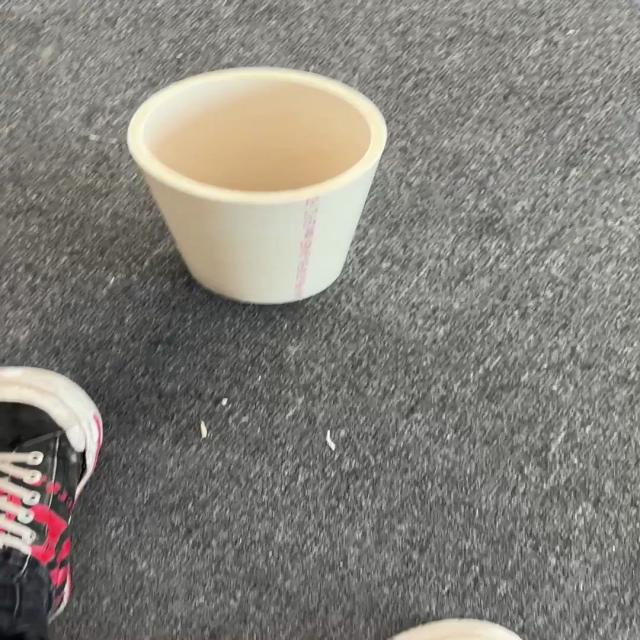Coral: (124, 65, 389, 305)
